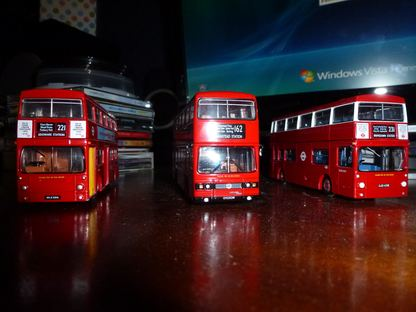bus: (270, 92, 411, 200), (14, 89, 119, 203), (170, 88, 264, 205)
